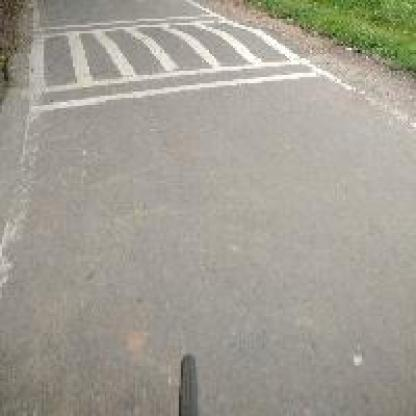Speed Bump: (33, 21, 314, 112)
